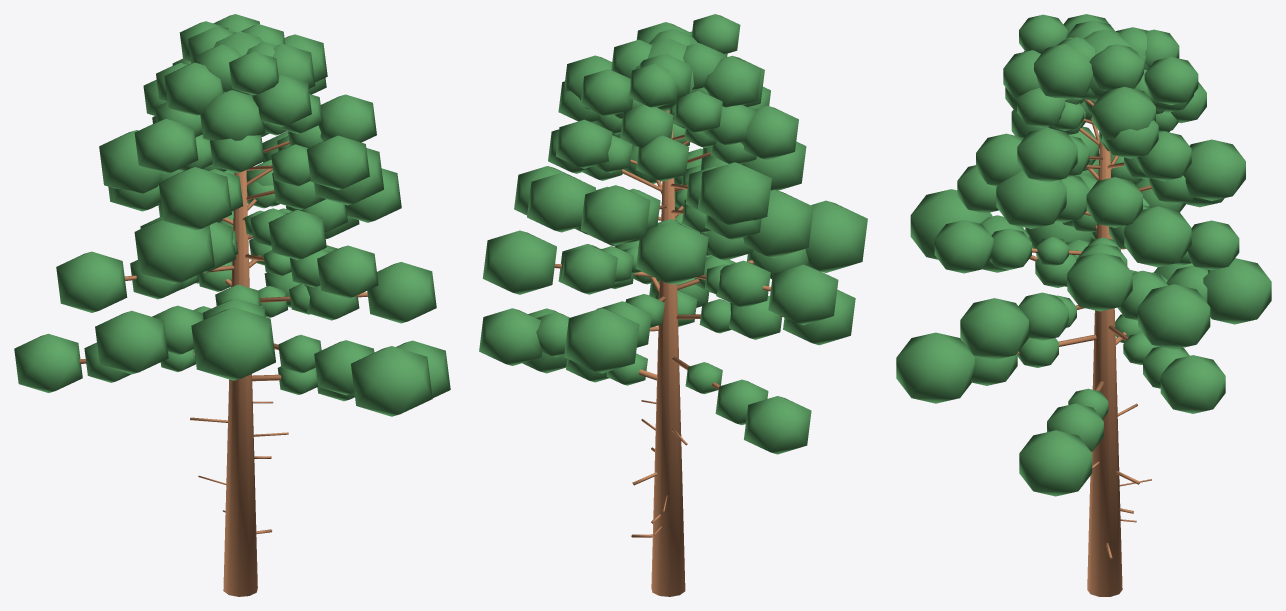
The model's file is pine_ponderosa_stylized.glb.
The picture shows the model from 3 angles, left to right: view 1: azimuth 30°, elevation 25°; view 2: azimuth 150°, elevation 25°; view 3: azimuth 270°, elevation 25°; orthographic projection.
Parts seen in each view (by area): view 1: pine_ponderosa_stylized; view 2: pine_ponderosa_stylized; view 3: pine_ponderosa_stylized.
Boxes of the visible parts, x1,y1,x2,y2 form: pine_ponderosa_stylized: (14,14,450,596); pine_ponderosa_stylized: (479,14,867,596); pine_ponderosa_stylized: (896,14,1271,596).
Bounding box in the file's own units: 9.98 × 14.87 × 8.91.
